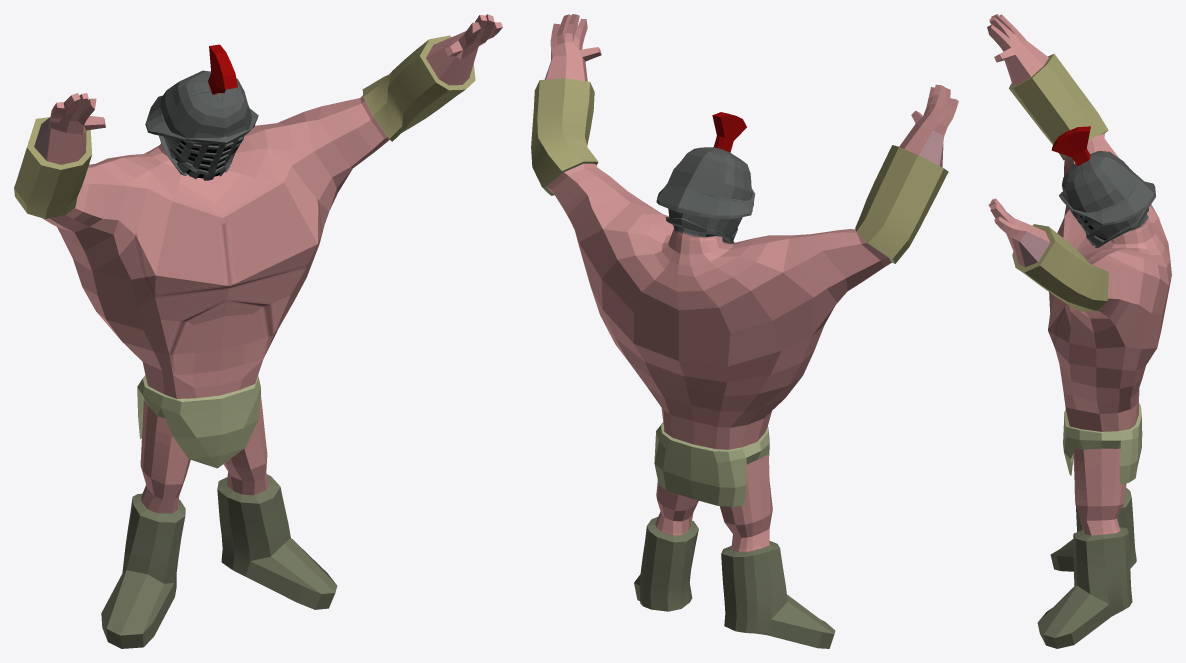
File: GladiatorCelebracion_000549.obj
3 views of the same model, side by side, from view 1: azimuth 30°, elevation 25°; view 2: azimuth 150°, elevation 25°; view 3: azimuth 270°, elevation 25° (orthographic). The views are drawn at different scales.
Parts seen in each view (by area): view 1: Gadiador_Gladiador_H; view 2: Gadiador_Gladiador_H; view 3: Gadiador_Gladiador_H.
Boxes of the visible parts, left/top/right/bottom form: Gadiador_Gladiador_H: left=14, top=14, right=502, bottom=648; Gadiador_Gladiador_H: left=531, top=14, right=958, bottom=648; Gadiador_Gladiador_H: left=987, top=14, right=1171, bottom=648.
Bounding box in the file's own units: 6.28 × 8.05 × 2.63.
1 material, 1 textured.
